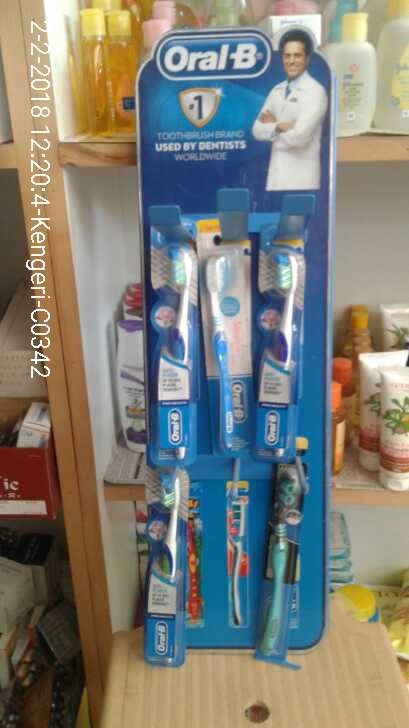oralb: (193, 257, 251, 449), (262, 250, 306, 463), (151, 252, 193, 462), (261, 471, 298, 664), (154, 473, 186, 665)
